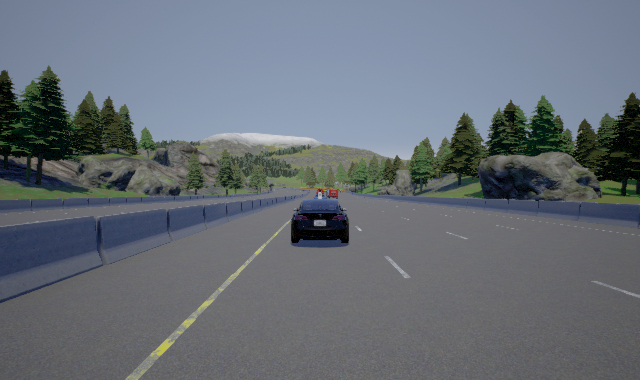vehicle: (290, 197, 349, 243)
